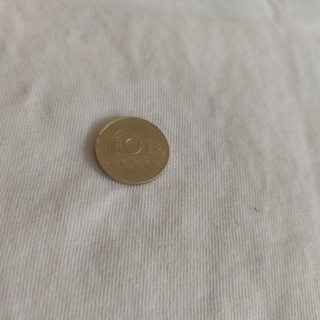5KURUS: (93, 114, 171, 185)
